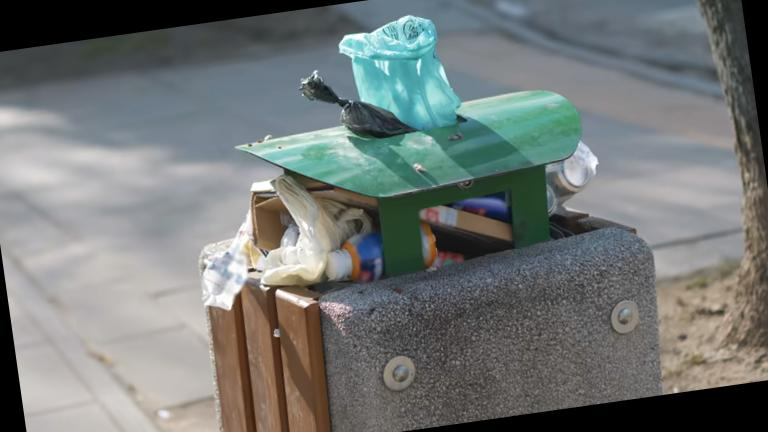trash: (202, 135, 397, 322), (300, 12, 470, 149), (525, 126, 629, 250), (411, 181, 523, 270)
trash_can_overflow: (74, 0, 720, 432)
